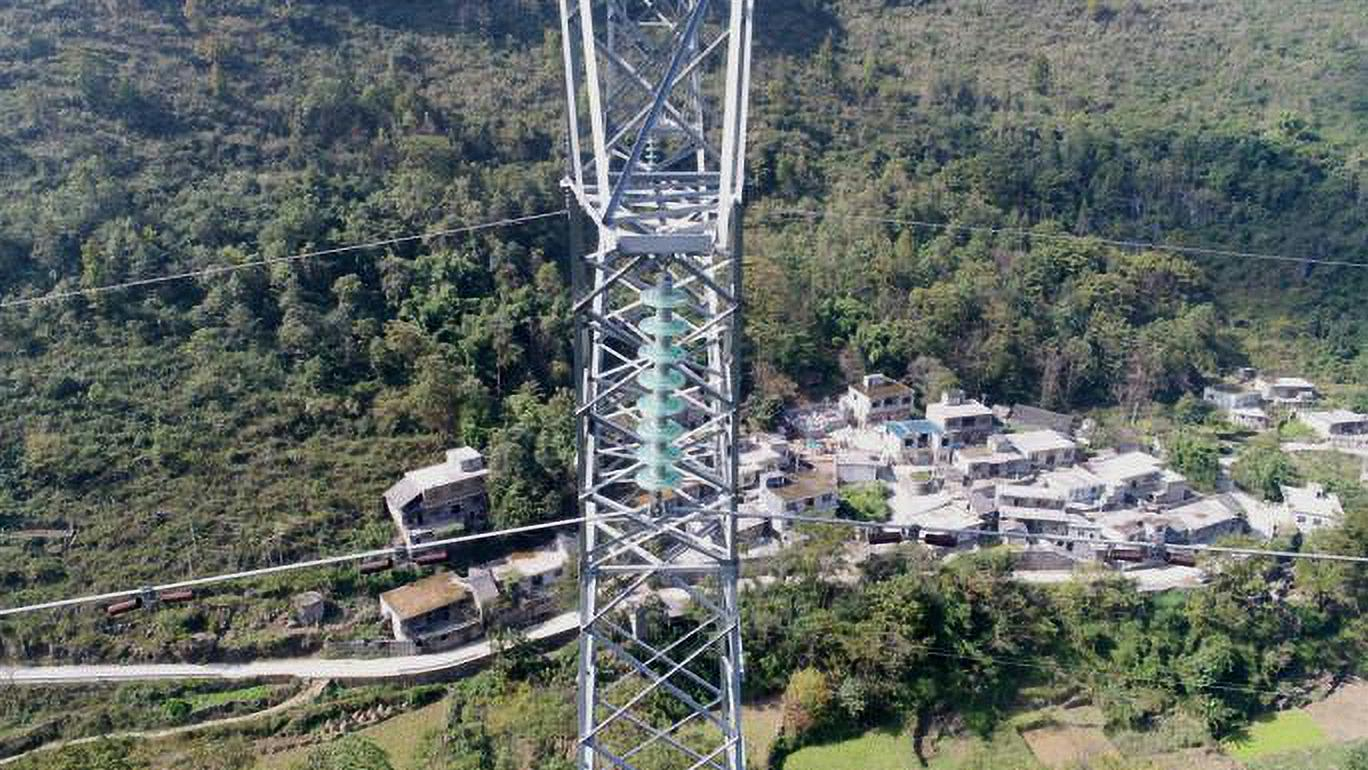insulator: (631, 284, 694, 494)
